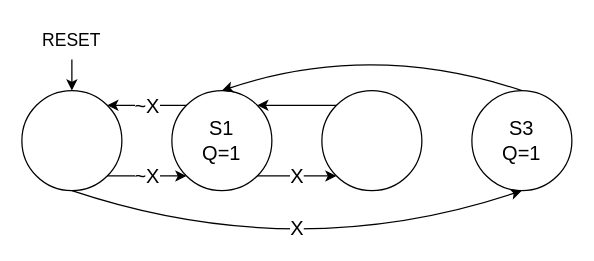
The diagram is 594 pixels wide and 261 high, and some of its shapes have lost their labels. Each missing label, with the centre of its shape:
"S0 Q=0" goes at point (71, 140).
"S2 Q=1" goes at point (371, 140).
